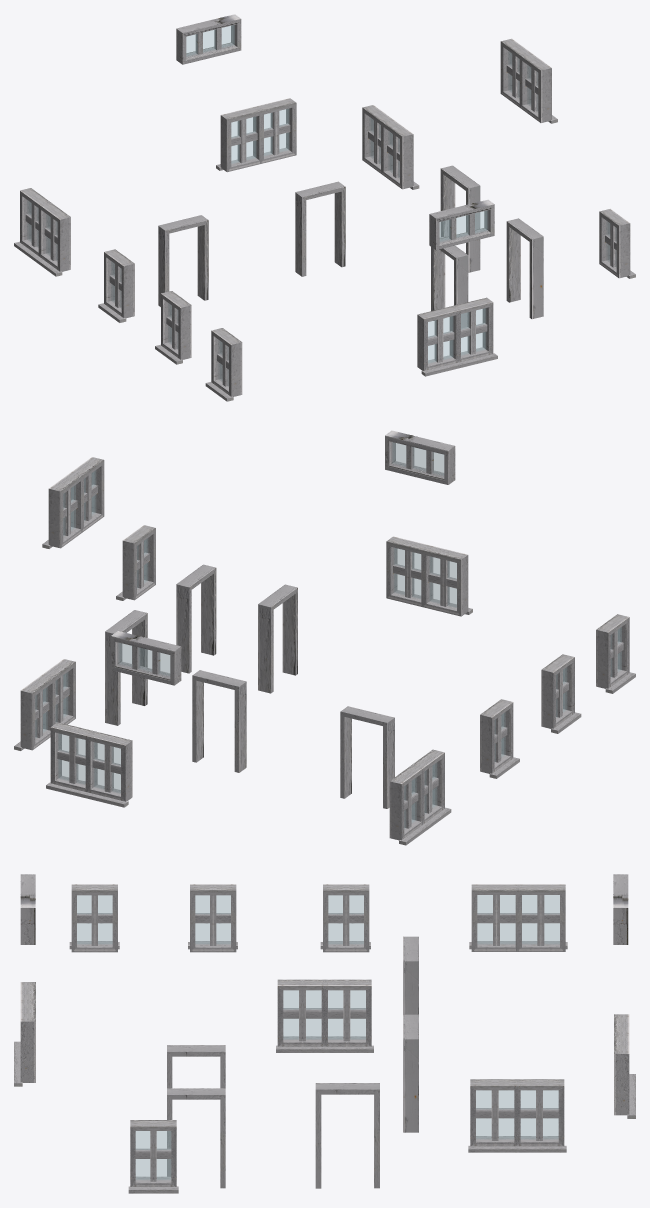
File: windows_doorFrames.glb
The picture shows the model from 3 angles, top to bottom: view 1: azimuth 30°, elevation 25°; view 2: azimuth 150°, elevation 25°; view 3: azimuth 270°, elevation 25°; orthographic projection. The views are drawn at different scales.
Visible parts, largest first — view 1: Windows, Door frames; view 2: Windows, Door frames; view 3: Windows, Door frames.
Part boxes in pixels (x1,y1,x2,y2): Windows: (14, 14, 635, 401); Door frames: (158, 165, 543, 328); Windows: (14, 430, 635, 845); Door frames: (105, 564, 394, 808); Windows: (14, 874, 635, 1193); Door frames: (167, 936, 418, 1188).
Size of the model in its own units: 97.88 by 43.15 by 104.
30 materials, 17 textured.
